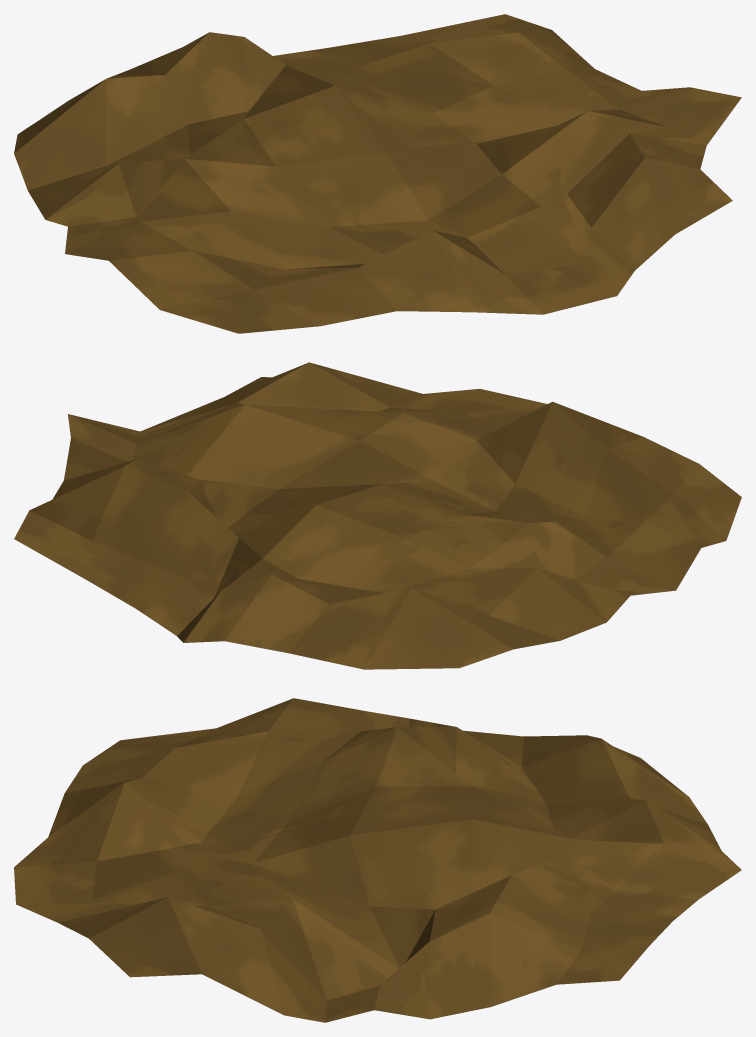
The model's file is comida_no_prato.glb.
3 views of the same model, one above another, from view 1: azimuth 30°, elevation 25°; view 2: azimuth 150°, elevation 25°; view 3: azimuth 270°, elevation 25° (orthographic). The views are drawn at different scales.
Visible parts, largest first — view 1: comida_no_prato; view 2: comida_no_prato; view 3: comida_no_prato.
Part boxes in pixels (left/top/right/bottom): comida_no_prato: left=14, top=14, right=741, bottom=333; comida_no_prato: left=14, top=362, right=741, bottom=669; comida_no_prato: left=14, top=698, right=741, bottom=1022.
Size of the model in its own units: 0.457 by 0.0421 by 0.4359.
Materials: 1 (1 with a texture image).
